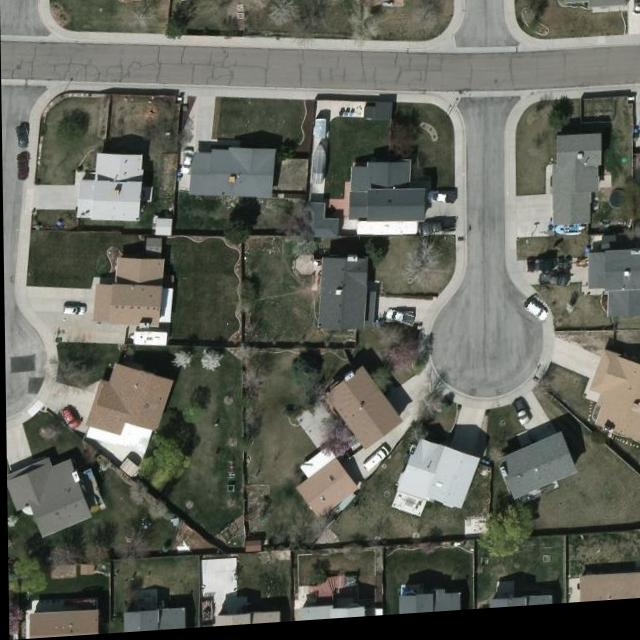vehicle: (521, 300, 551, 335), (54, 404, 82, 431), (360, 452, 389, 478), (509, 403, 533, 434), (418, 225, 458, 242), (382, 313, 414, 332), (425, 195, 459, 212), (537, 279, 570, 295), (15, 124, 31, 150), (17, 153, 31, 182), (61, 305, 86, 319), (181, 152, 194, 177), (631, 6, 640, 25)
